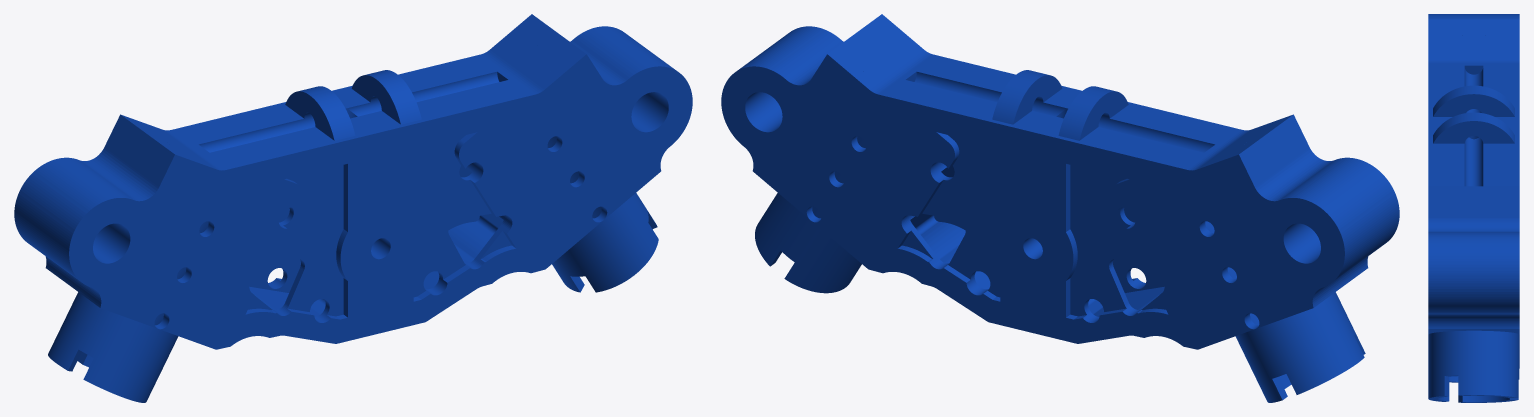
The model's file is 01_cabeza_aframe.glb.
3 renders of one model, left to right at view 1: azimuth 30°, elevation 25°; view 2: azimuth 150°, elevation 25°; view 3: azimuth 270°, elevation 25°, orthographic. The views are drawn at different scales.
Parts seen in each view (by area): view 1: 01_cabeza_aframe; view 2: 01_cabeza_aframe; view 3: 01_cabeza_aframe.
Boxes of the visible parts, box(x1,y1,x2,y2) form: 01_cabeza_aframe: box(14, 14, 692, 402); 01_cabeza_aframe: box(721, 14, 1399, 402); 01_cabeza_aframe: box(1428, 14, 1519, 402).
Size of the model in its own units: 417 by 164 by 63.5.
